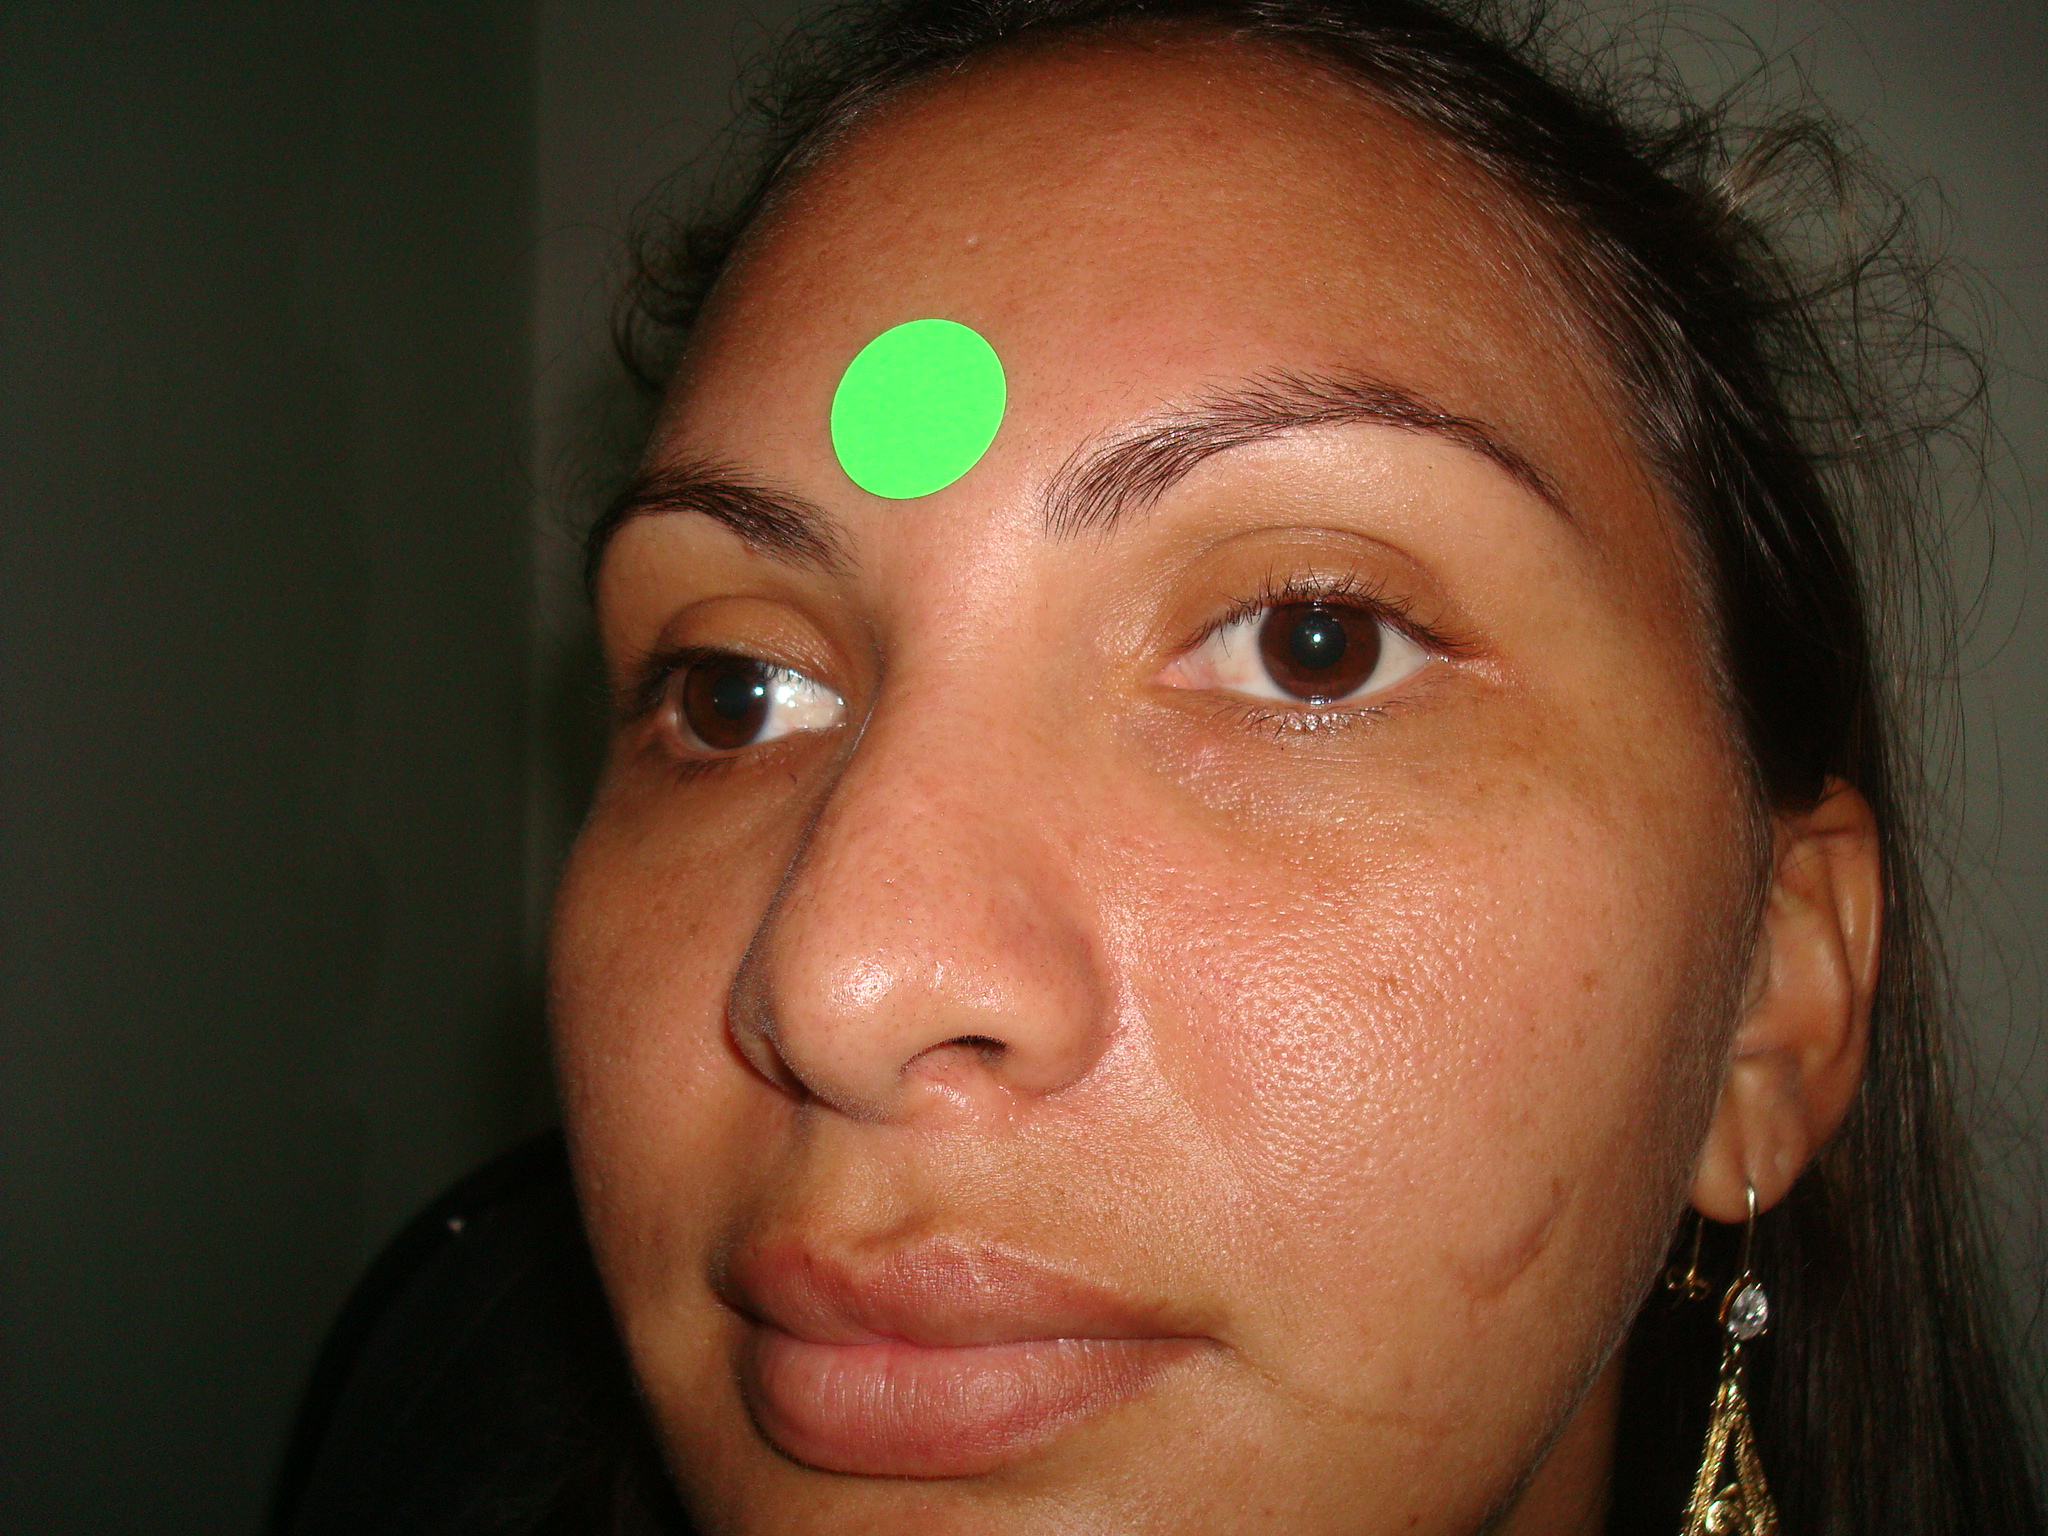flash: (750, 682, 769, 700), (1311, 632, 1324, 645)
limbo: (1258, 591, 1376, 699), (687, 644, 772, 749)
